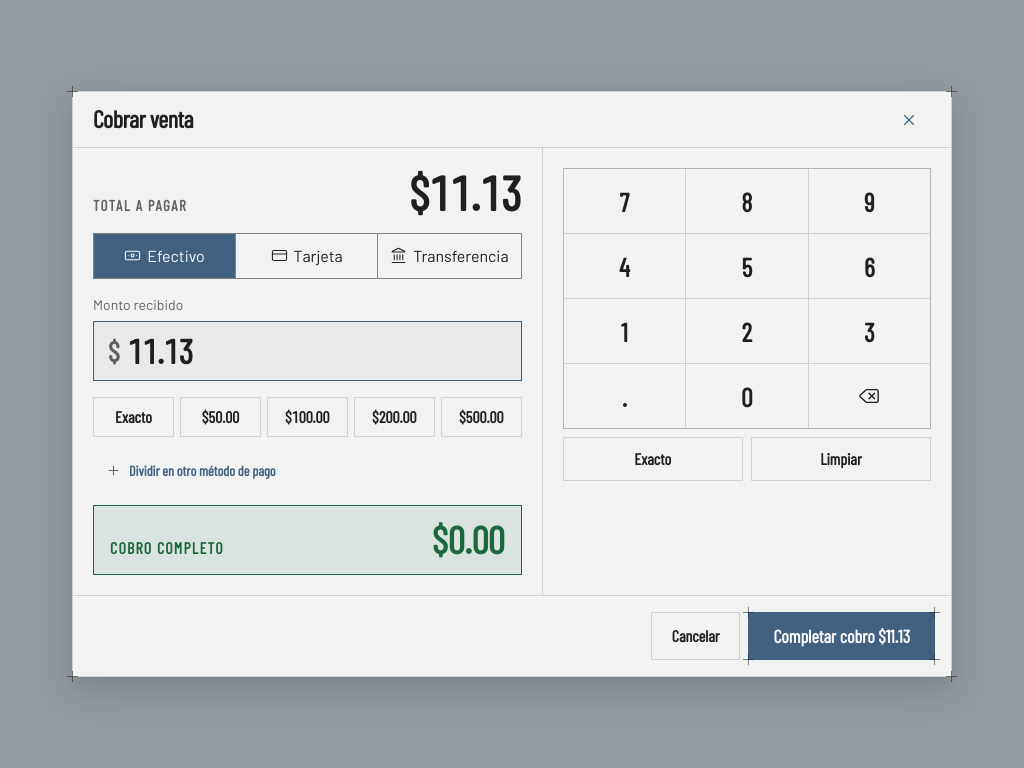
it: PaymentModal: pagos divididos › dos pagos que suman el total permiten completar (FE-104: en centavos enteros)
Click the button "Limpiar". click: (841, 459)
box: [751, 437, 931, 481]
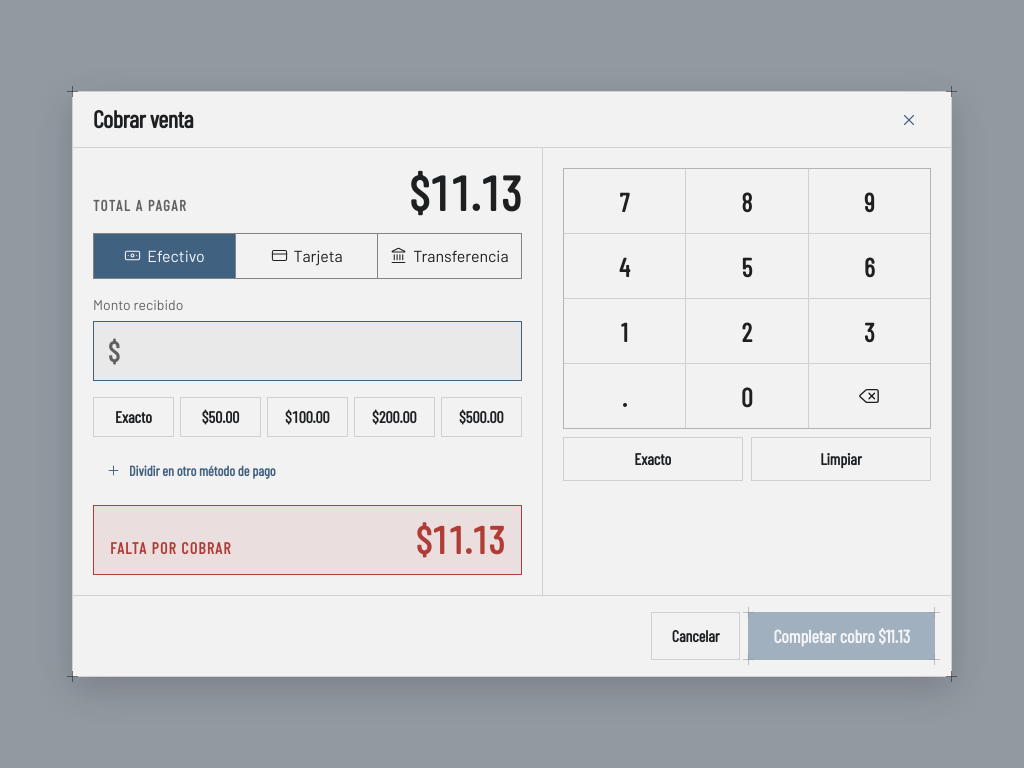
Click the button "1". click: (624, 331)
box: [564, 299, 685, 363]
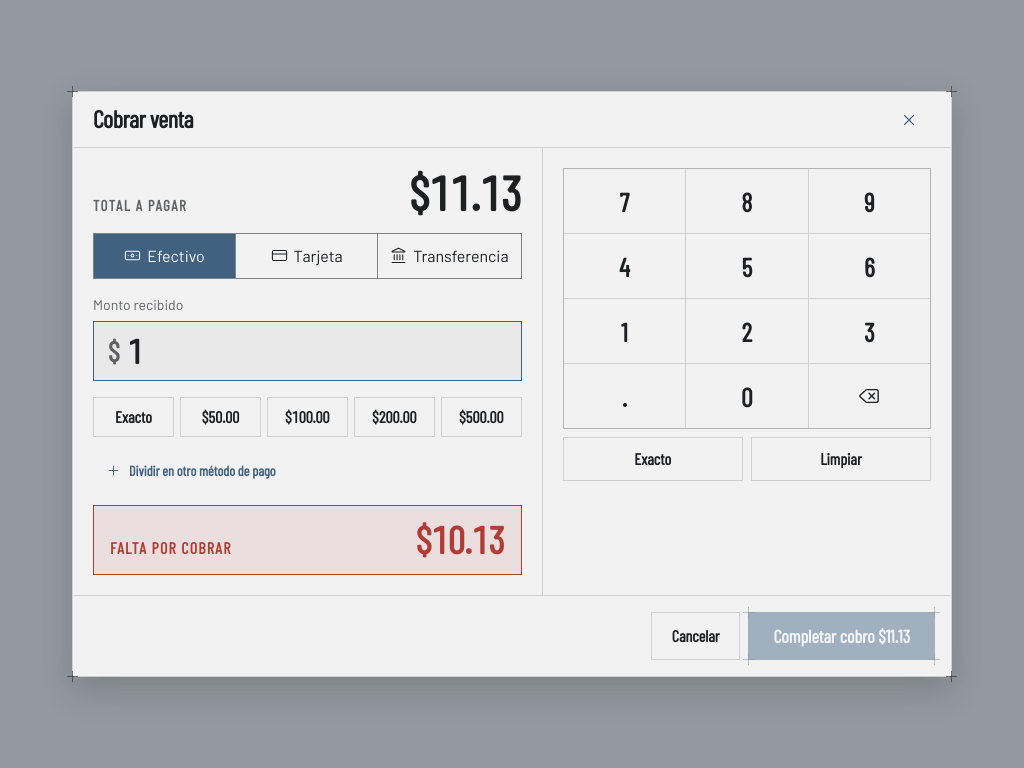
Click the button "0". click: (747, 396)
box: [686, 364, 808, 428]
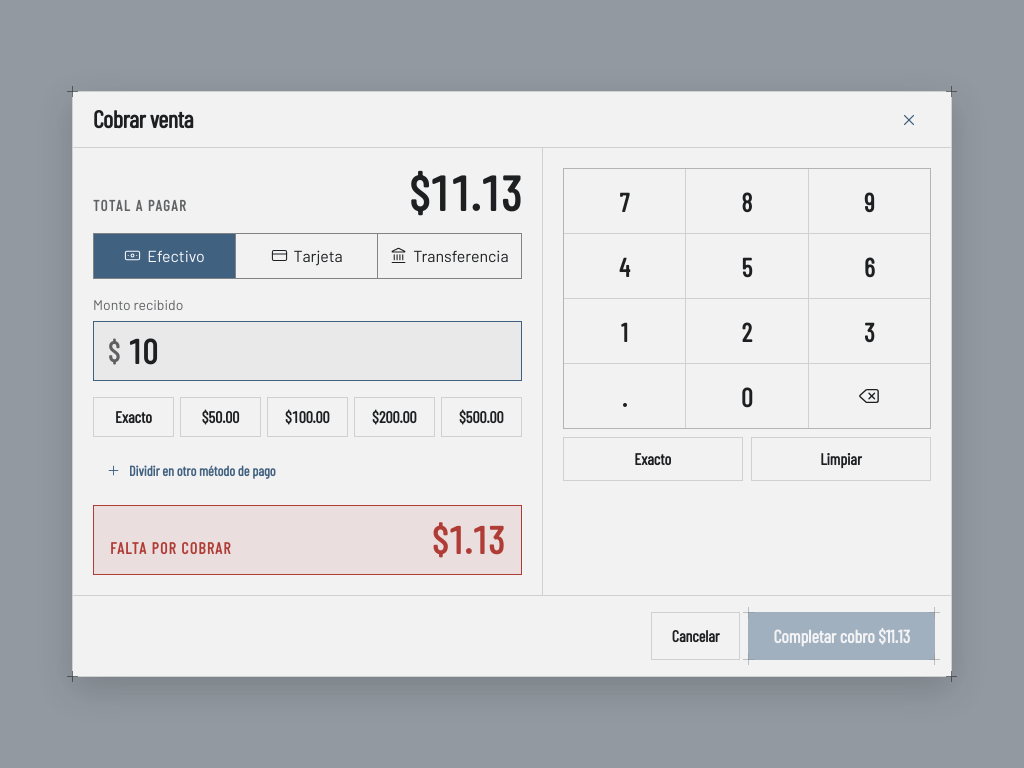
Click the button "Dividir en otro método de pago". click: (191, 471)
box: [93, 453, 289, 489]
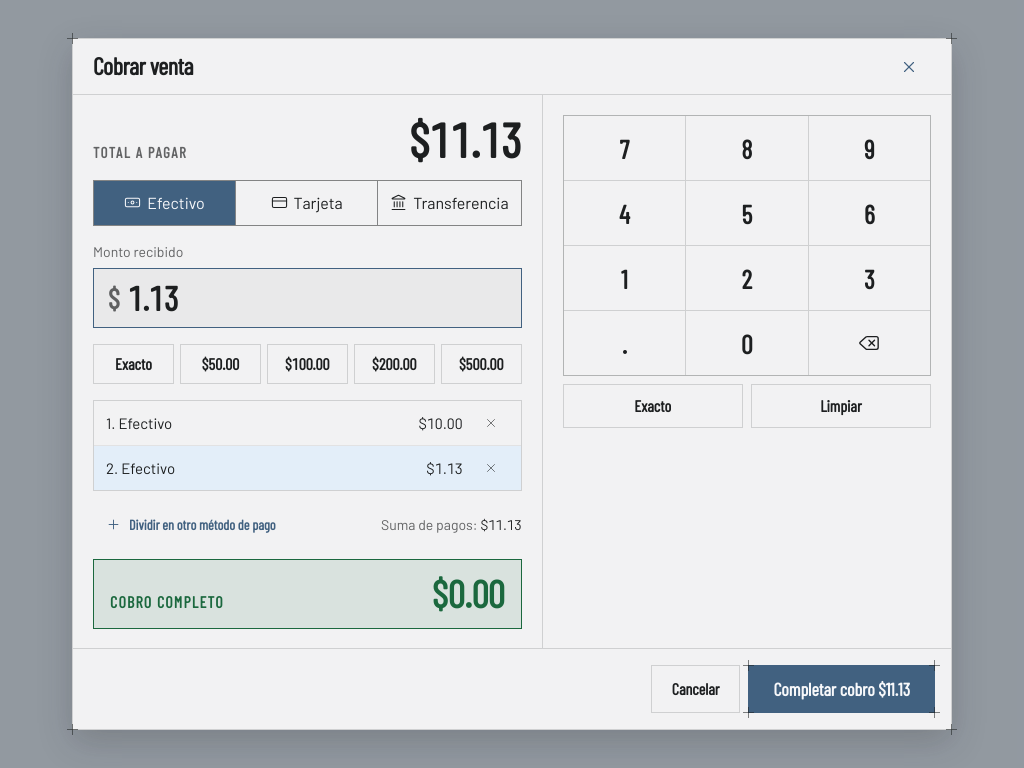
Check: the button "Completar cobro $11.13" is enabled, box [748, 665, 935, 713]
Check: the message reads "Cobro completo $0.00", box [93, 559, 522, 629]
